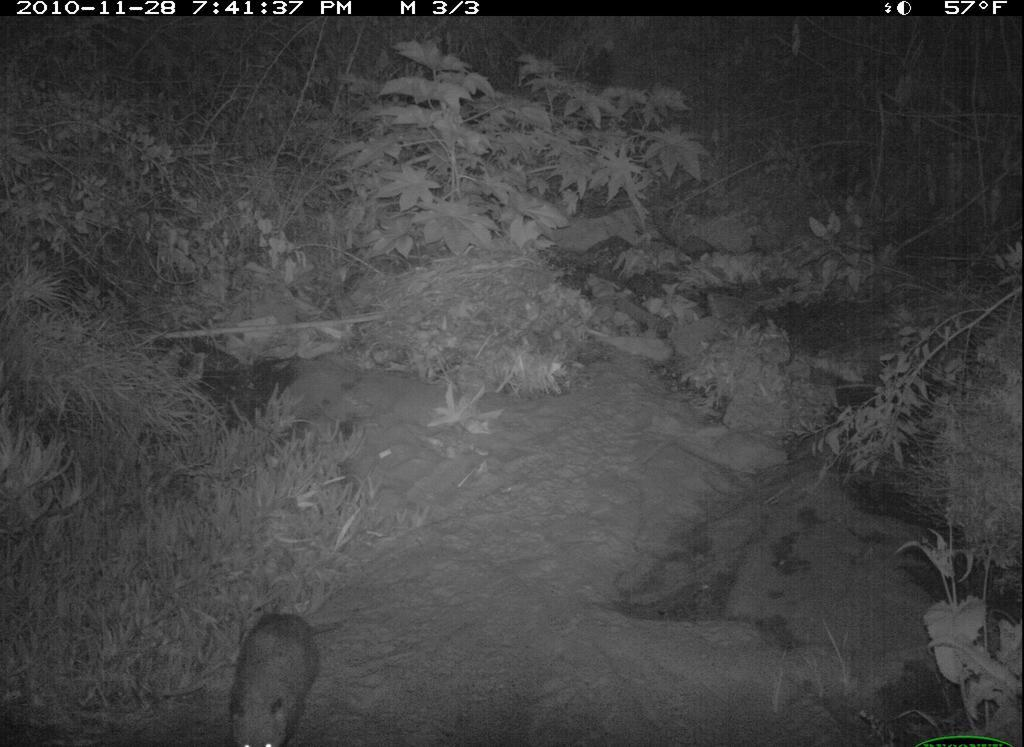opossum: (218, 607, 342, 747)
